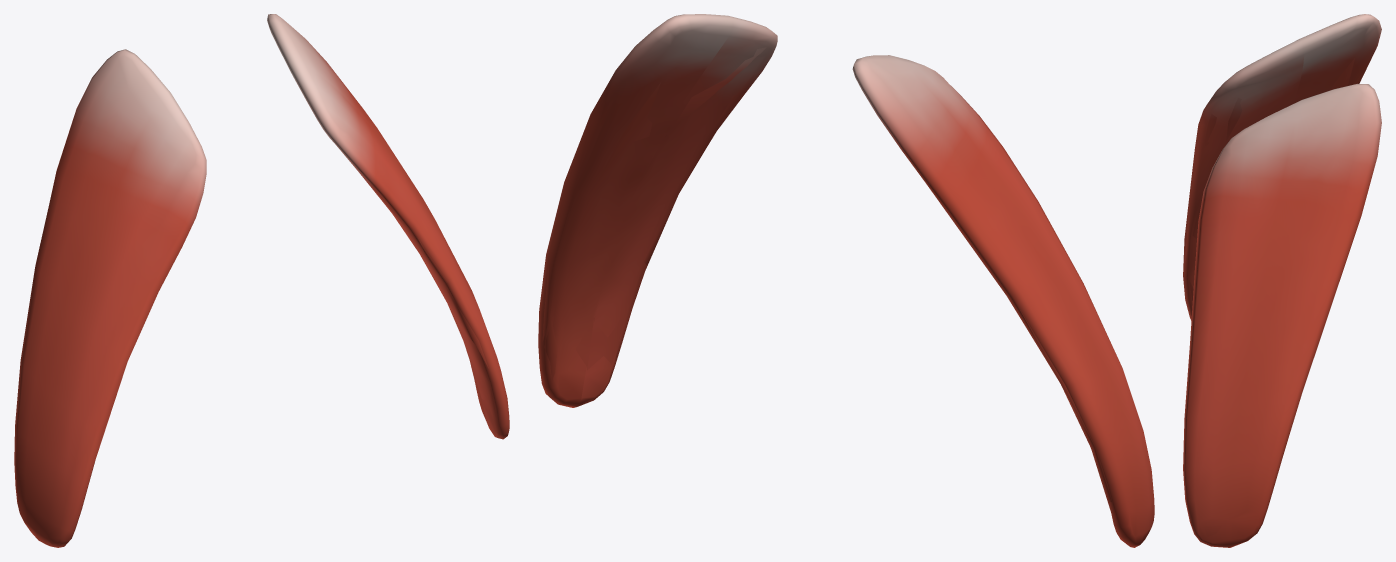
The model's file is Levator Nasolabialis.fbx.
The picture shows the model from 3 angles, left to right: view 1: azimuth 30°, elevation 25°; view 2: azimuth 150°, elevation 25°; view 3: azimuth 270°, elevation 25°; orthographic projection. The views are drawn at different scales.
Parts seen in each view (by area): view 1: Levator Nasolabialis, Levator Nasolabialis low; view 2: Levator Nasolabialis, Levator Nasolabialis low; view 3: Levator Nasolabialis, Levator Nasolabialis low.
Part boxes in pixels (left/top/right/bottom): Levator Nasolabialis: left=14, top=14, right=509, bottom=547; Levator Nasolabialis low: left=94, top=165, right=496, bottom=463; Levator Nasolabialis: left=538, top=14, right=1154, bottom=547; Levator Nasolabialis low: left=542, top=47, right=1112, bottom=516; Levator Nasolabialis: left=1183, top=14, right=1381, bottom=547; Levator Nasolabialis low: left=1184, top=58, right=1363, bottom=536.
Size of the model in its own units: 5.5 by 4.5 by 2.06.
1 material, 1 textured.
